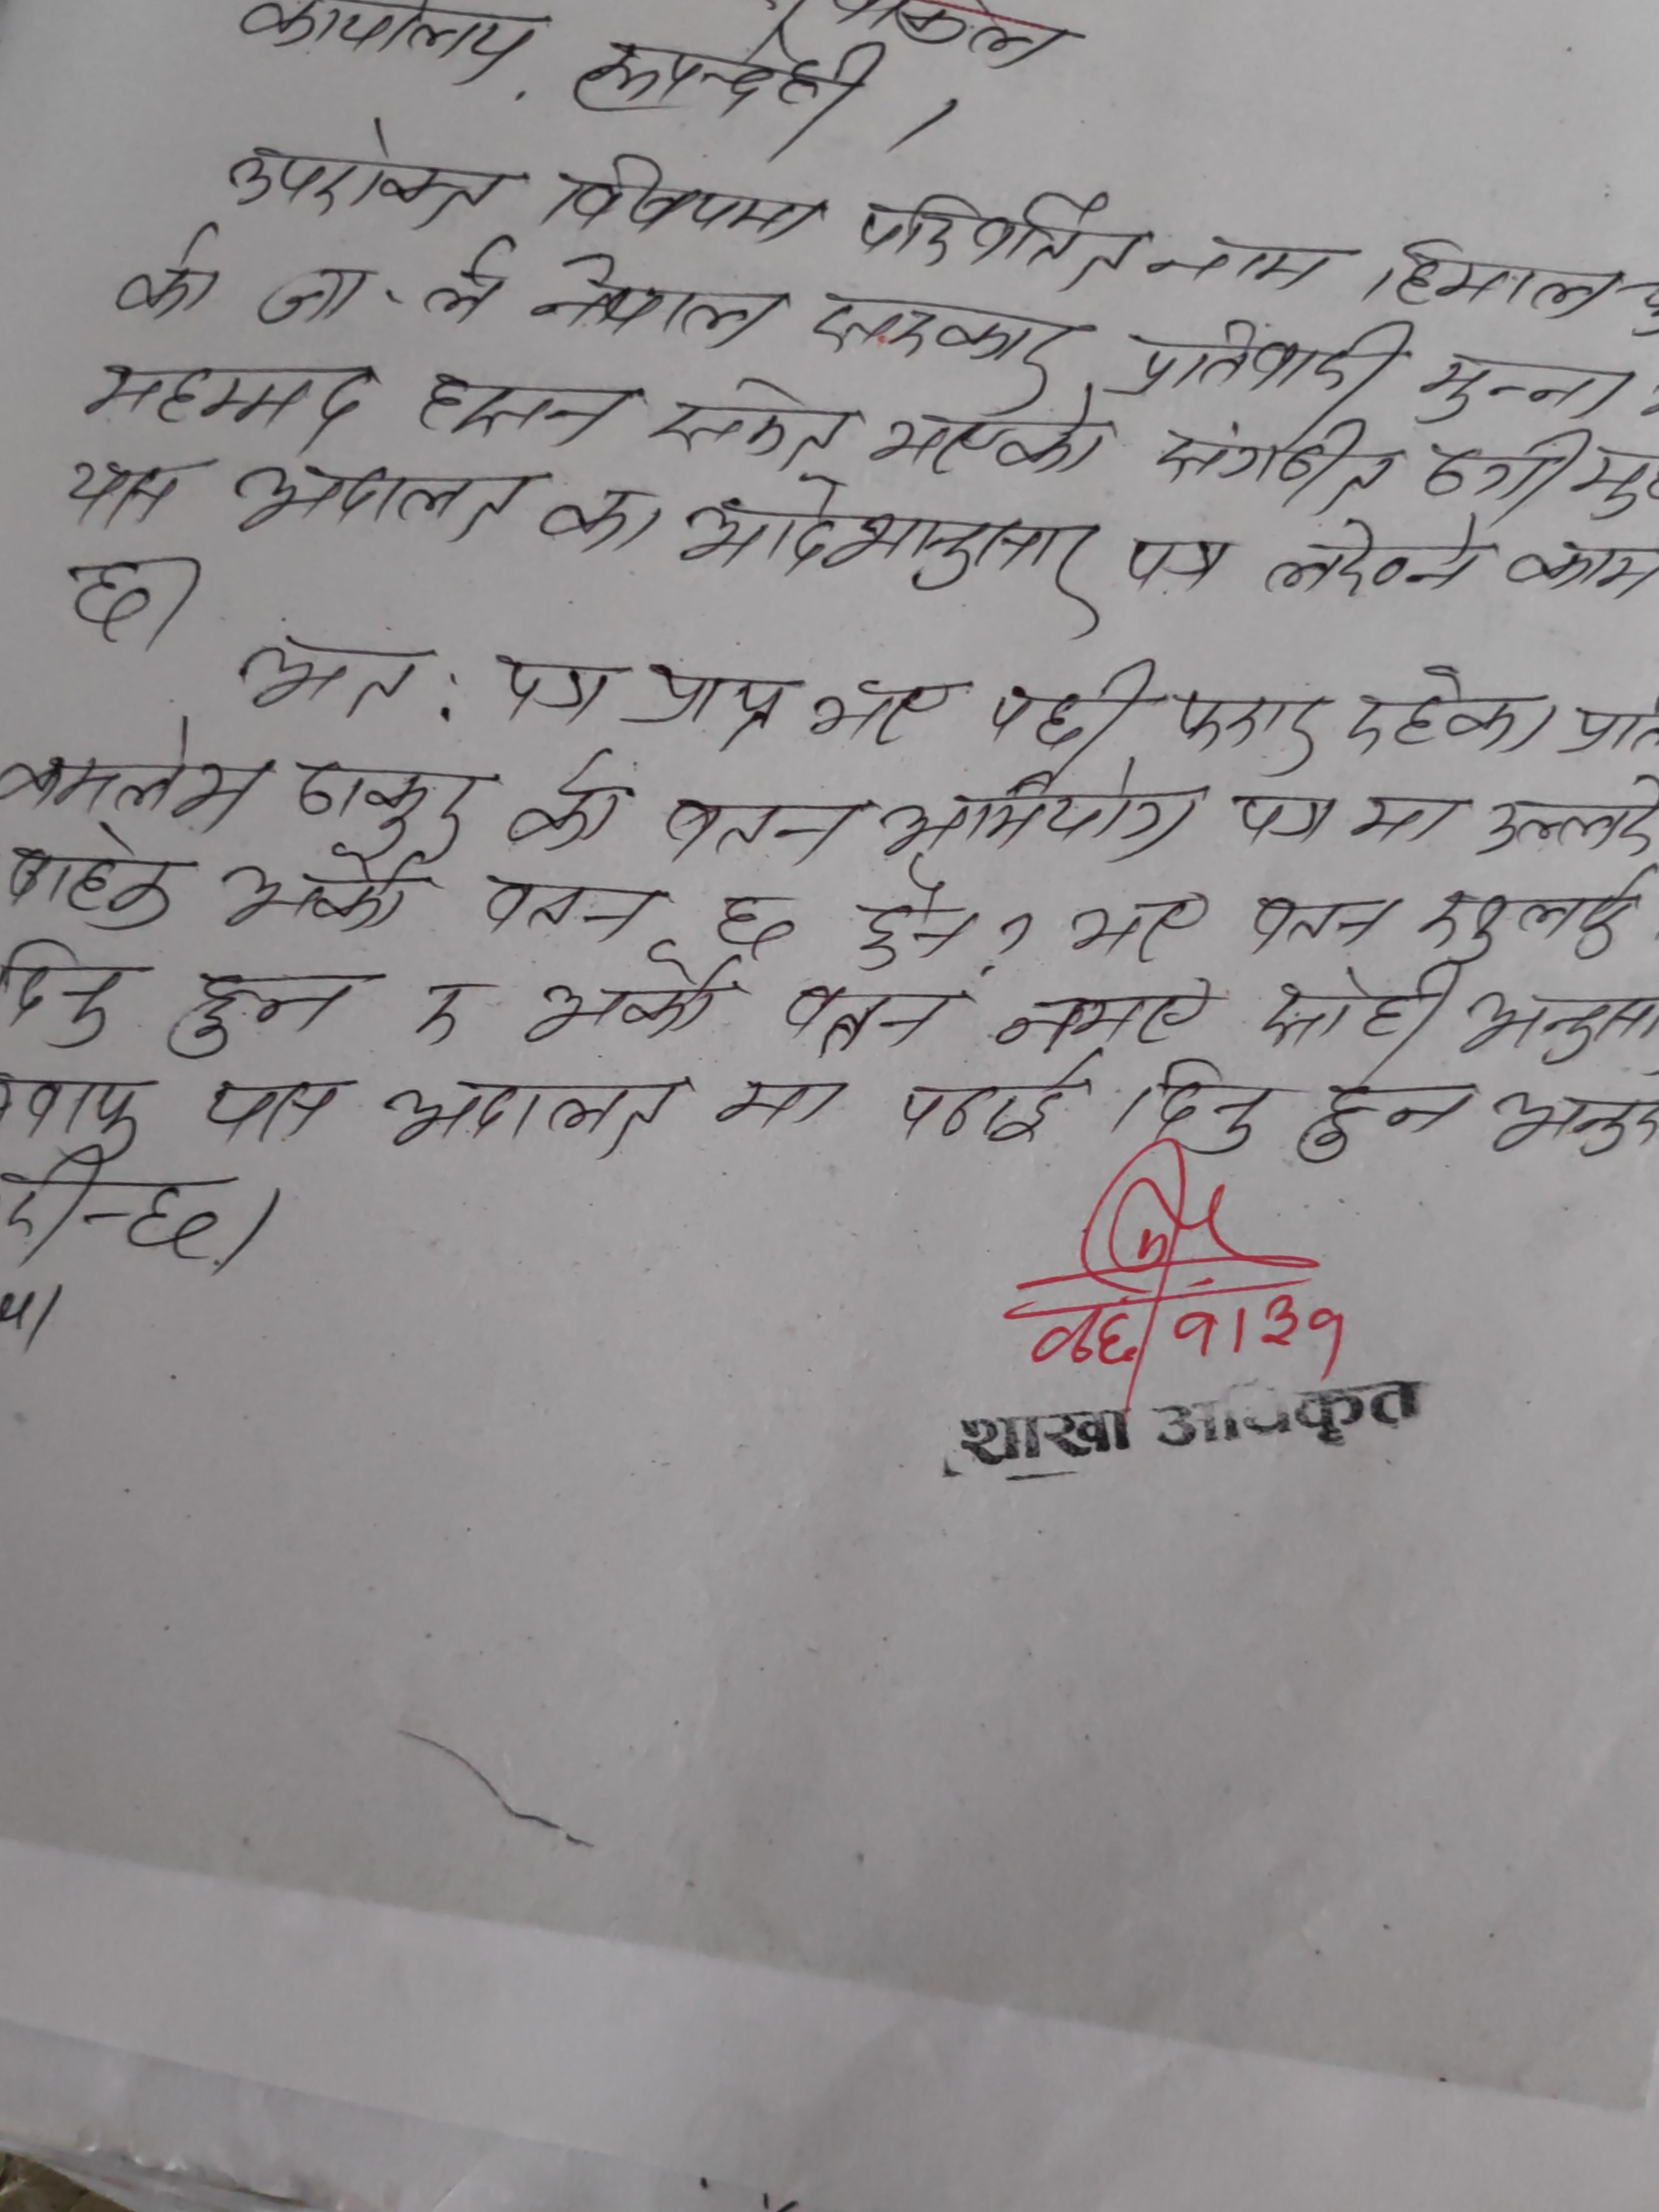text: (671, 467, 1100, 621), (870, 750, 1199, 868), (1114, 305, 1420, 420), (803, 279, 1084, 399), (216, 120, 512, 230), (845, 187, 1145, 295), (228, 444, 535, 549), (14, 713, 267, 833), (537, 148, 826, 253), (0, 1145, 232, 1274), (1018, 1288, 1352, 1372), (73, 357, 382, 448), (1147, 411, 1417, 512), (371, 1072, 687, 1157), (523, 933, 728, 1056), (1255, 948, 1466, 1067), (1361, 232, 1619, 328), (528, 256, 788, 350), (249, 239, 518, 329), (1340, 657, 1556, 760), (859, 396, 1114, 483), (162, 957, 364, 1065), (1262, 506, 1497, 596), (416, 357, 643, 450), (638, 375, 852, 472), (1460, 969, 1659, 1074), (1291, 1065, 1473, 1173), (985, 657, 1164, 765), (657, 783, 861, 877), (889, 1049, 1087, 1145), (631, 648, 800, 758), (235, 631, 432, 725), (1417, 349, 1642, 431), (990, 976, 1208, 1060), (282, 750, 486, 838), (1420, 413, 1588, 518), (1473, 769, 1659, 859), (1117, 1048, 1263, 1156), (1490, 1074, 1659, 1164), (774, 978, 964, 1058), (1147, 220, 1345, 295), (7, 922, 117, 1055), (1169, 683, 1323, 774), (497, 758, 631, 858), (809, 676, 965, 760), (1504, 530, 1659, 612), (544, 464, 664, 568), (190, 1067, 347, 1147), (110, 227, 227, 328), (68, 450, 206, 535), (488, 640, 608, 725), (708, 1067, 850, 1138), (1218, 777, 1340, 856), (63, 558, 166, 648), (1333, 784, 1466, 847), (1119, 530, 1237, 596), (399, 974, 486, 1053)
